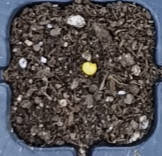pepper seed: (31, 22, 130, 99)
